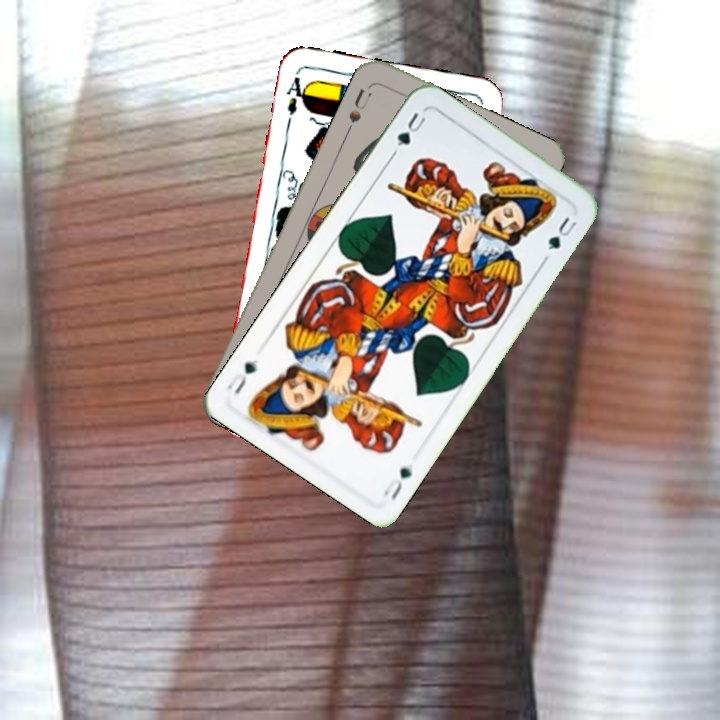EA: (282, 67, 311, 118)
GU: (388, 108, 430, 158), (379, 463, 415, 504)
SU: (342, 84, 374, 136)
